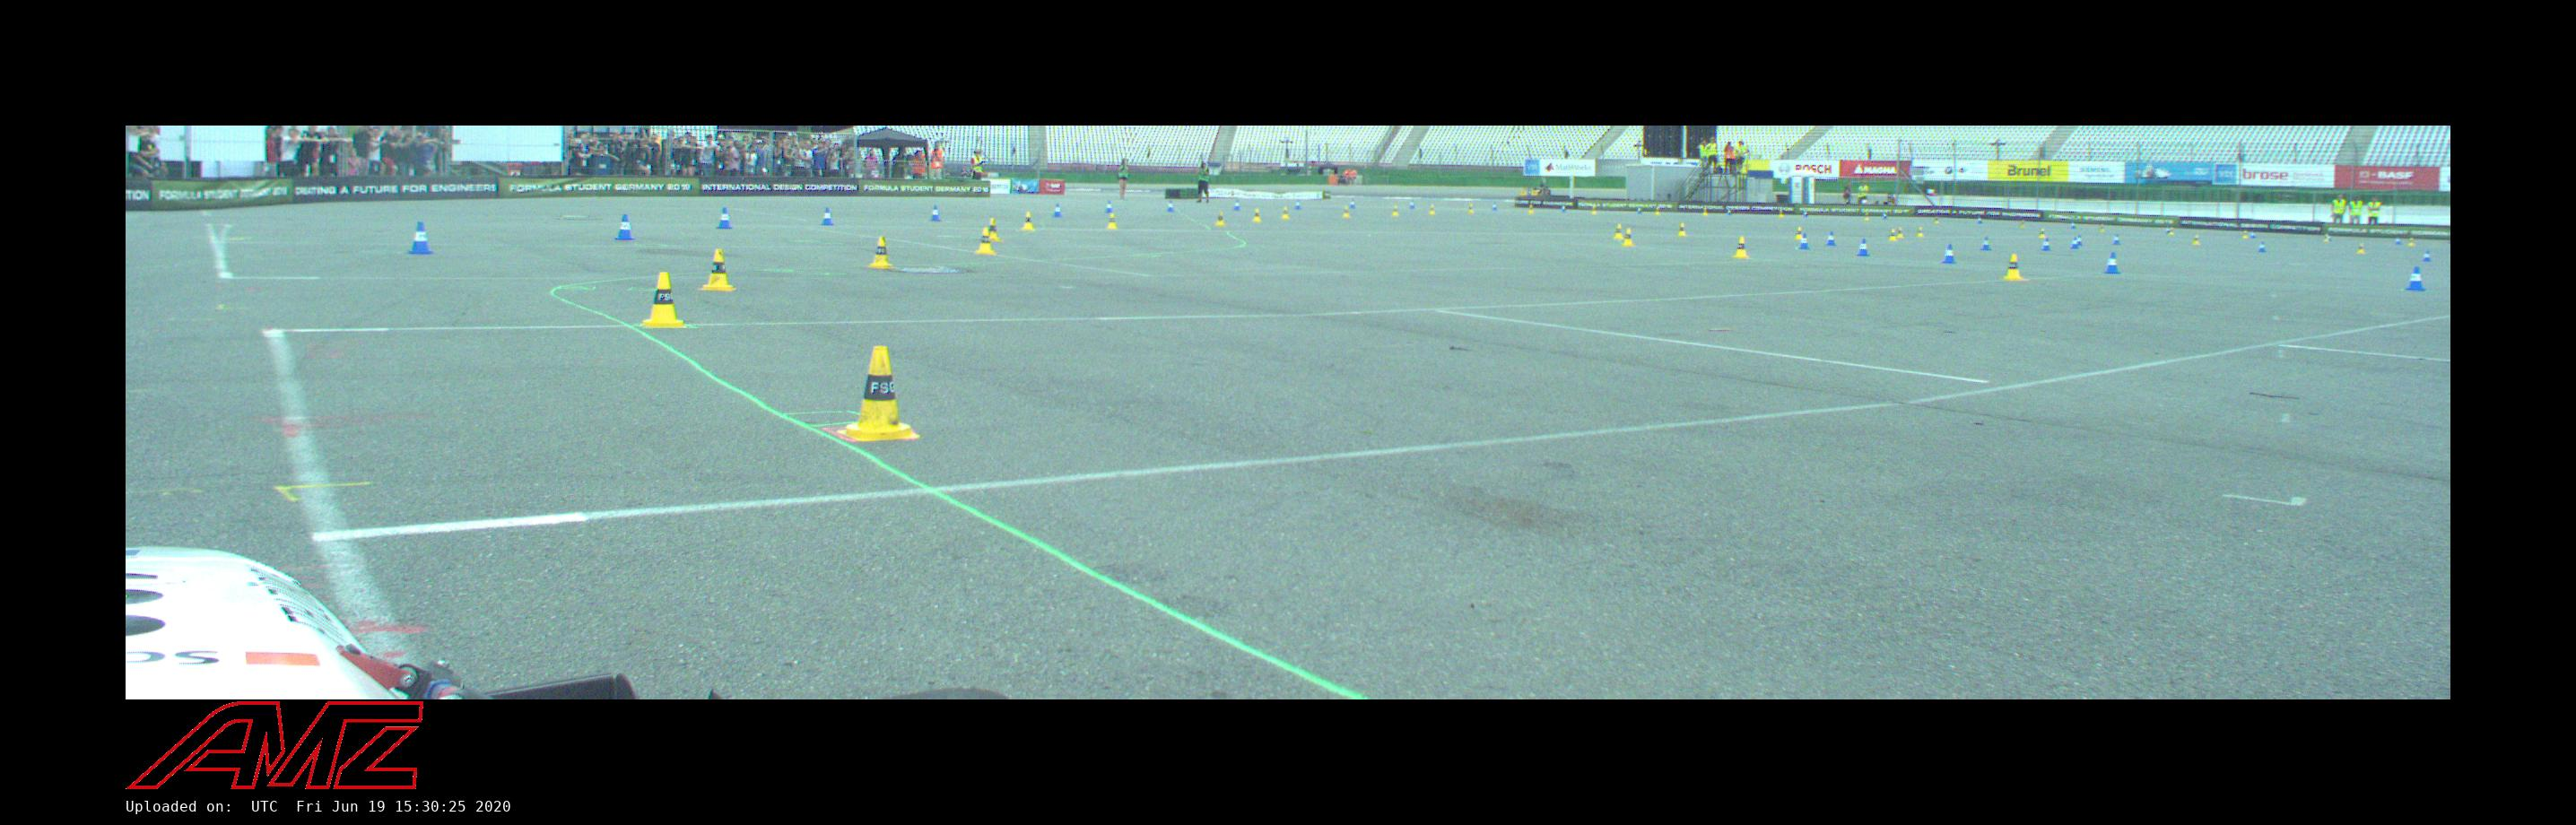blue_cone: (405, 222, 434, 255), (614, 215, 635, 240), (2405, 267, 2426, 291), (715, 207, 733, 230), (2103, 253, 2121, 274), (1942, 245, 1956, 264), (1856, 239, 1870, 256), (821, 208, 834, 225), (929, 205, 943, 221), (1798, 232, 1810, 249), (1980, 237, 1992, 250), (1052, 204, 1063, 217), (2041, 237, 2051, 251), (1826, 231, 1836, 246), (1104, 201, 1113, 213), (1166, 200, 1175, 212), (2112, 233, 2121, 245), (1232, 199, 1241, 211), (2071, 238, 2079, 248), (2259, 242, 2267, 252), (2424, 251, 2431, 261), (2076, 235, 2083, 246), (1294, 200, 1301, 209), (1349, 199, 1355, 209), (1409, 201, 1415, 209), (2396, 237, 2401, 244), (1493, 203, 1497, 211), (2071, 222, 2076, 229), (1727, 208, 1732, 215), (1637, 206, 1641, 213), (1803, 210, 1807, 217), (1883, 212, 1887, 219), (1562, 204, 1565, 212), (1978, 217, 1982, 223), (2250, 232, 2255, 239), (2166, 229, 2169, 234), (2329, 236, 2332, 241)
yellow_cone: (837, 347, 921, 441), (641, 272, 687, 327), (701, 249, 736, 291), (867, 236, 895, 268), (975, 228, 996, 254), (2003, 254, 2023, 281), (983, 219, 1001, 241), (1734, 237, 1749, 258), (1022, 213, 1035, 230), (1623, 228, 1633, 246), (1107, 213, 1117, 229), (1216, 212, 1225, 226), (1614, 224, 1623, 239), (1252, 208, 1261, 221), (1794, 226, 1803, 239), (1342, 205, 1351, 217), (1678, 223, 1686, 236), (1281, 207, 1290, 218), (1889, 229, 1896, 240), (2192, 235, 2200, 245), (1897, 227, 1903, 239), (1392, 205, 1398, 216), (2357, 244, 2364, 253), (2039, 229, 2046, 238), (1917, 227, 1923, 237), (1430, 204, 1435, 214), (2408, 238, 2415, 246), (1702, 207, 1708, 215), (1655, 207, 1660, 215), (1778, 209, 1783, 217), (1468, 204, 1473, 213), (1528, 204, 1533, 213), (1592, 205, 1597, 214), (2099, 224, 2104, 231), (1864, 213, 1868, 220), (2020, 221, 2024, 228), (1934, 217, 1938, 223), (2243, 230, 2247, 238), (2324, 235, 2328, 242), (2171, 228, 2173, 234)
